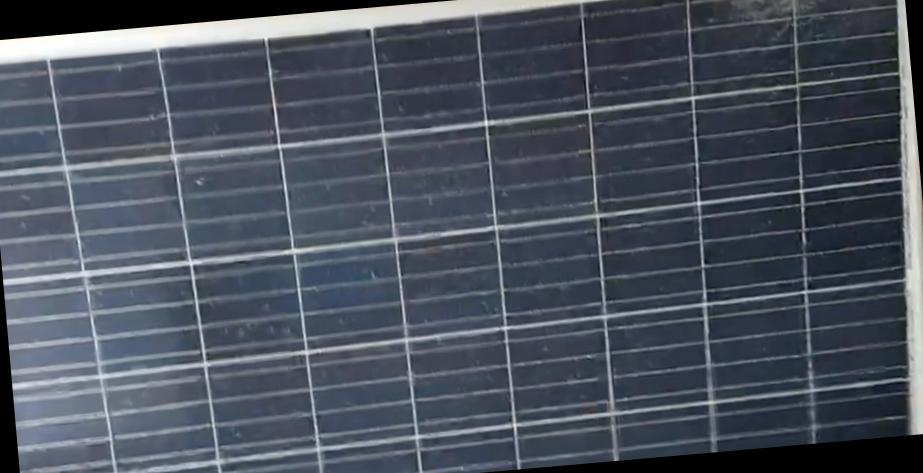Crack: (703, 0, 840, 14)
